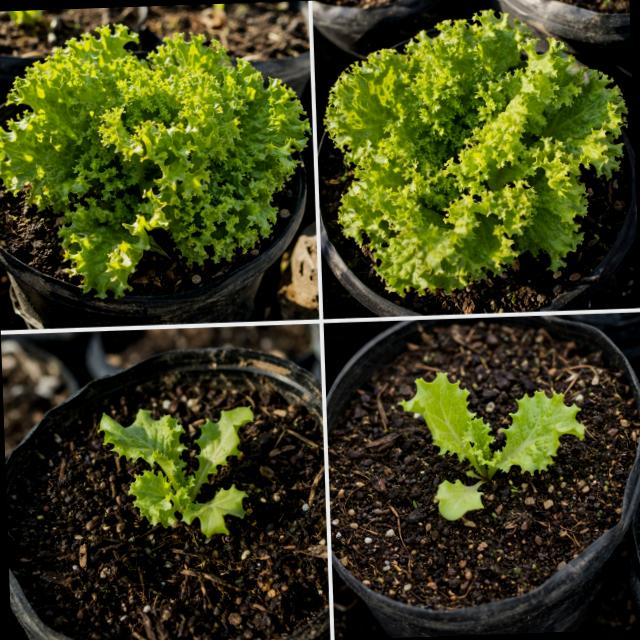lista_para_cosechar: (325, 10, 627, 296), (0, 25, 309, 298)
verde: (399, 372, 584, 520), (99, 407, 252, 537)
